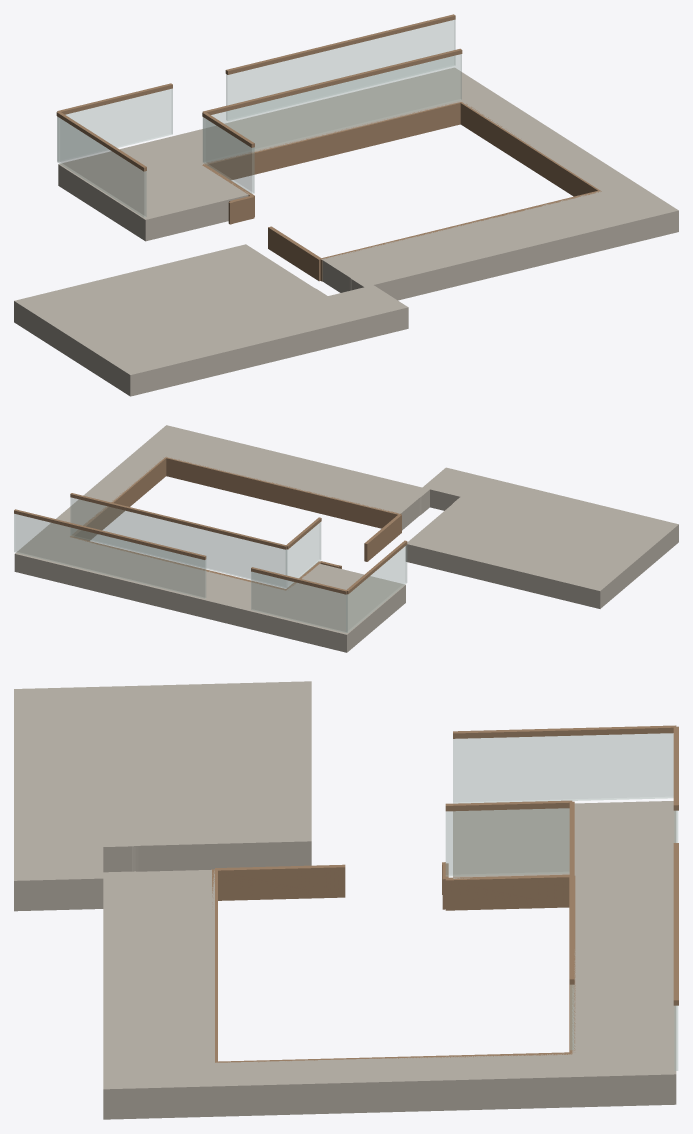
File: PERIMETER_795_r001.glb
The picture shows the model from 3 angles, top to bottom: view 1: azimuth 30°, elevation 25°; view 2: azimuth 150°, elevation 25°; view 3: azimuth 270°, elevation 25°; orthographic projection. The views are drawn at different scales.
Parts seen in each view (by area): view 1: G2P_795_TERRACE_00, G2P_795_RearGuardGlass_0, G2P_795_OuterGuard_2, G2P_795_PitEdge_2_0, G2P_795_OuterGuard_1, G2P_795_OuterGuard_0, G2P_795_PitEdge_1_0, G2P_795_RearGuardGlass_1, G2P_795_RearGuardRail_0, G2P_795_OuterRail_2, G2P_795_PitEdge_5_0, G2P_795_PitEdge_0_0 (+2 smaller); view 2: G2P_795_TERRACE_00, G2P_795_RearGuardGlass_0, G2P_795_OuterGuard_2, G2P_795_PitEdge_0_0, G2P_795_OuterGuard_1, G2P_795_OuterGuard_0, G2P_795_PitEdge_1_0, G2P_795_RearGuardGlass_1, G2P_795_RearGuardRail_0, G2P_795_OuterRail_2, G2P_795_PitEdge_5_0, G2P_795_OuterRail_1 (+2 smaller); view 3: G2P_795_TERRACE_00, G2P_795_OuterGuard_0, G2P_795_RearGuardGlass_1, G2P_795_PitEdge_5_0, G2P_795_PitEdge_3_0, G2P_795_OuterRail_0, G2P_795_RearGuardRail_0, G2P_795_RearGuardRail_1, G2P_795_OuterRail_2, G2P_795_PitEdge_1_0, G2P_795_PitEdge_2_0.
Part boxes in pixels (x1,y1,x2,y2): G2P_795_TERRACE_00: (14, 67, 678, 396); G2P_795_RearGuardGlass_0: (203, 54, 461, 162); G2P_795_OuterGuard_2: (226, 20, 455, 120); G2P_795_PitEdge_2_0: (203, 102, 460, 180); G2P_795_OuterGuard_1: (57, 88, 172, 161); G2P_795_OuterGuard_0: (57, 116, 146, 217); G2P_795_PitEdge_1_0: (460, 102, 599, 196); G2P_795_RearGuardGlass_1: (203, 117, 254, 193); G2P_795_RearGuardRail_0: (203, 48, 462, 114); G2P_795_OuterRail_2: (225, 14, 455, 74); G2P_795_PitEdge_5_0: (268, 226, 321, 281); G2P_795_PitEdge_0_0: (320, 190, 601, 281); G2P_795_TERRACE_00: (14, 425, 678, 652); G2P_795_RearGuardGlass_0: (70, 497, 286, 587); G2P_795_OuterGuard_2: (14, 514, 205, 598); G2P_795_PitEdge_0_0: (165, 456, 401, 528); G2P_795_OuterGuard_1: (251, 572, 347, 632); G2P_795_OuterGuard_0: (346, 545, 406, 632); G2P_795_PitEdge_1_0: (70, 457, 166, 540); G2P_795_RearGuardGlass_1: (286, 522, 320, 587); G2P_795_RearGuardRail_0: (70, 493, 286, 549); G2P_795_OuterRail_2: (14, 509, 206, 559); G2P_795_PitEdge_5_0: (364, 514, 401, 561); G2P_795_OuterRail_1: (251, 567, 346, 594); G2P_795_TERRACE_00: (14, 681, 676, 1119); G2P_795_OuterGuard_0: (453, 733, 673, 803); G2P_795_RearGuardGlass_1: (446, 808, 569, 876); G2P_795_PitEdge_5_0: (215, 864, 345, 900); G2P_795_PitEdge_3_0: (445, 874, 569, 910); G2P_795_OuterRail_0: (453, 725, 676, 738); G2P_795_RearGuardRail_0: (569, 801, 574, 984); G2P_795_RearGuardRail_1: (445, 800, 572, 811); G2P_795_OuterRail_2: (673, 843, 678, 1005); G2P_795_PitEdge_1_0: (215, 1052, 572, 1062); G2P_795_PitEdge_2_0: (569, 876, 575, 1052).
Size of the model in its own units: 12.97 by 1.55 by 8.93.
